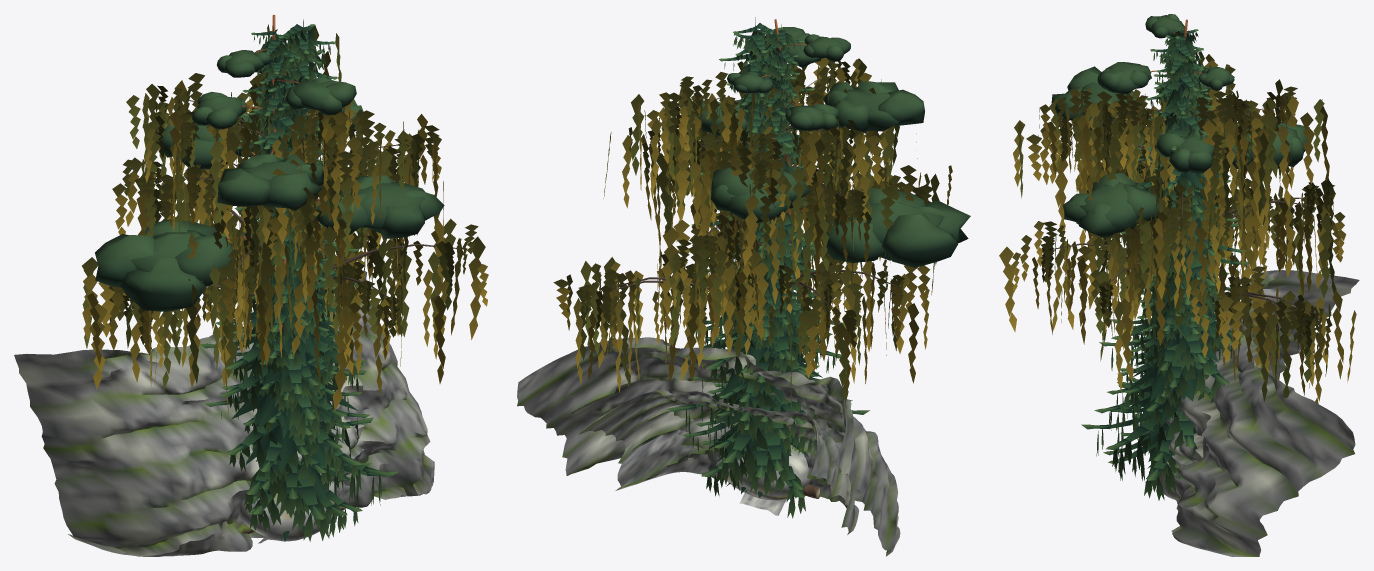
Rendered from nature.glb.
The picture shows the model from 3 angles, left to right: view 1: azimuth 30°, elevation 25°; view 2: azimuth 150°, elevation 25°; view 3: azimuth 270°, elevation 25°; orthographic projection. The views are drawn at different scales.
Parts seen in each view (by area): view 1: klippa-a, bjork-a, bjork-b, tall-a, gran-a, gran-b, gran-c, block-c, klippa-b; view 2: bjork-b, bjork-a, klippa-a, tall-a, gran-a, klippa-b, gran-b, gran-c, block-c; view 3: bjork-b, bjork-a, klippa-a, gran-a, tall-a, gran-b, gran-c, klippa-b.
Boxes of the visible parts, left/top/right/bottom form: klippa-a: left=14, top=270, right=434, bottom=556; bjork-a: left=82, top=92, right=488, bottom=384; bjork-b: left=87, top=24, right=449, bottom=414; tall-a: left=95, top=15, right=444, bottom=332; gran-a: left=199, top=19, right=397, bottom=541; gran-b: left=221, top=26, right=371, bottom=539; gran-c: left=227, top=201, right=361, bottom=524; block-c: left=239, top=473, right=337, bottom=541; klippa-b: left=223, top=416, right=364, bottom=538; bjork-b: left=553, top=58, right=930, bottom=392; bjork-a: left=566, top=61, right=952, bottom=413; klippa-a: left=517, top=337, right=900, bottom=556; tall-a: left=691, top=19, right=970, bottom=267; gran-a: left=666, top=17, right=869, bottom=518; klippa-b: left=579, top=390, right=858, bottom=534; gran-b: left=695, top=24, right=847, bottom=502; gran-c: left=700, top=208, right=819, bottom=497; block-c: left=716, top=445, right=811, bottom=499; bjork-b: left=999, top=79, right=1356, bottom=397; bjork-a: left=1013, top=51, right=1342, bottom=403; klippa-a: left=1166, top=270, right=1359, bottom=556; gran-a: left=1081, top=36, right=1248, bottom=500; tall-a: left=1051, top=14, right=1309, bottom=237; gran-b: left=1103, top=21, right=1232, bottom=477; gran-c: left=1116, top=182, right=1229, bottom=473; klippa-b: left=1172, top=340, right=1301, bottom=520.
Size of the model in its own units: 46.93 by 63.99 by 44.12.
